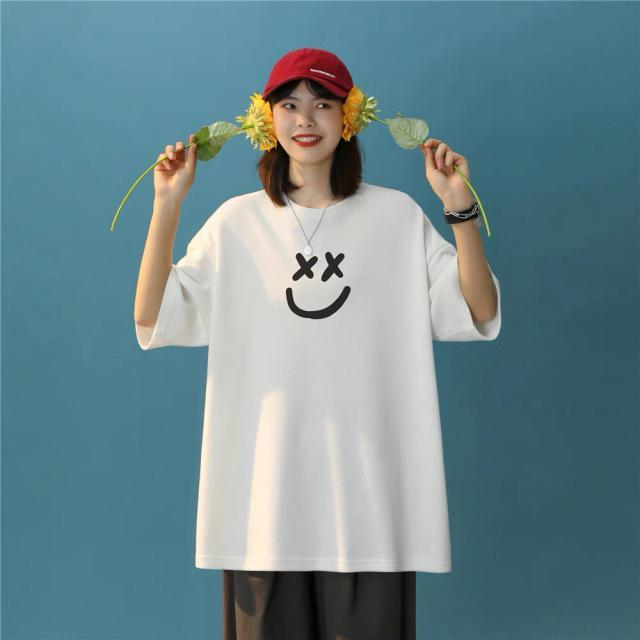Shirt: (135, 179, 501, 577)
